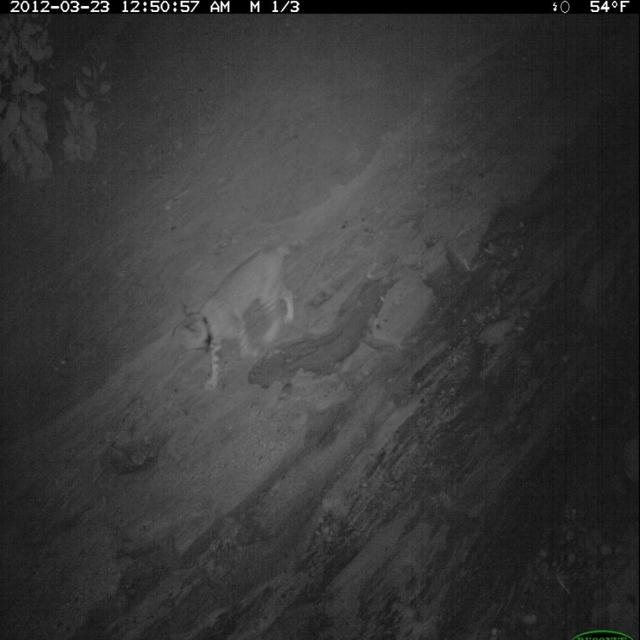bobcat: (177, 237, 301, 399)
